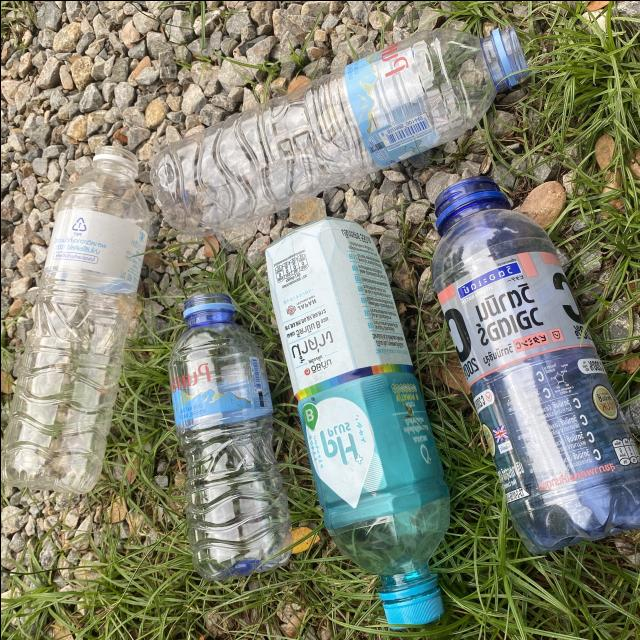plastik: (431, 176, 640, 553), (150, 26, 525, 234), (265, 217, 448, 625), (0, 144, 148, 492), (168, 291, 291, 579)
